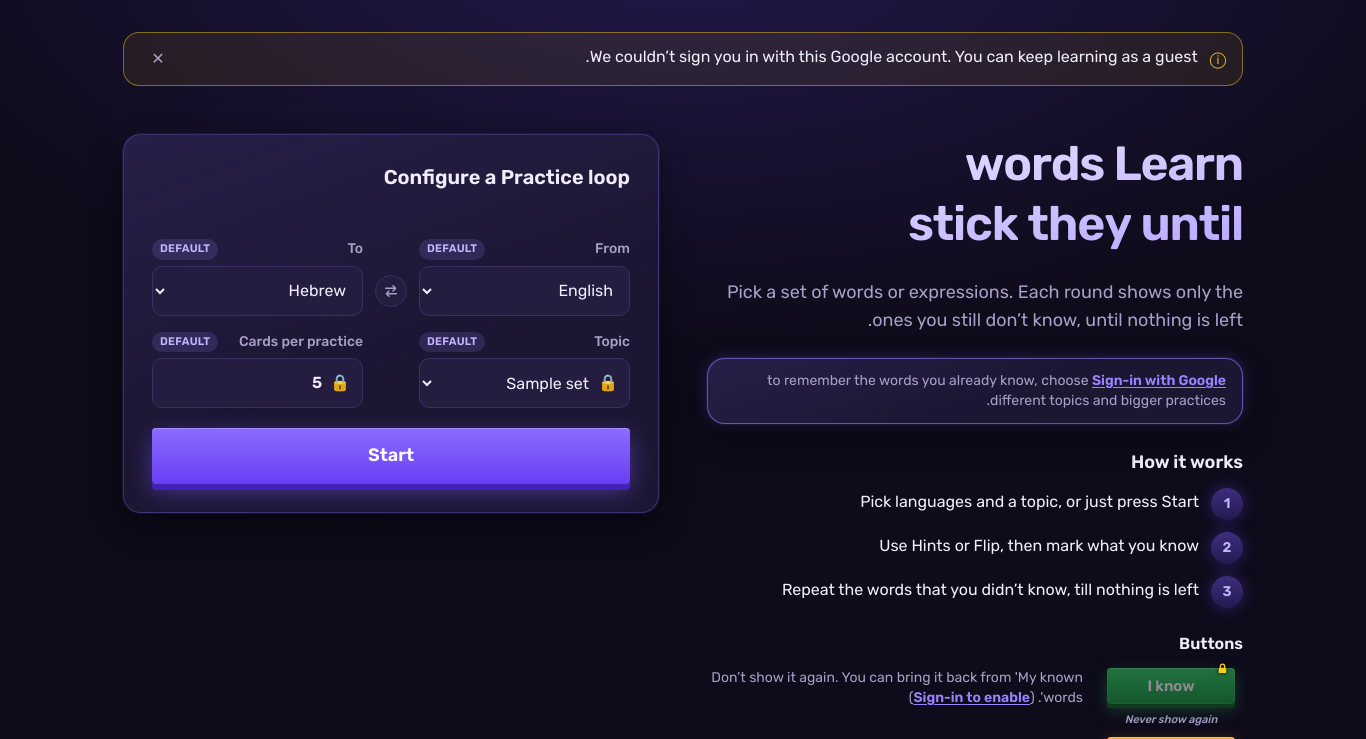
Test: Landing: back from a failed sign-in (FR-L56) › a refused account sees a lasting, neutral notice; the address is cleaned
This screenshot has width=1366, height=739.
Expected: the message shows "We couldn’t sign you in with this Google account. You can keep learning as a guest.", [586,47,1198,66]
Click the button named "Dismiss": {"x": 158, "y": 59} [140,41,176,77]
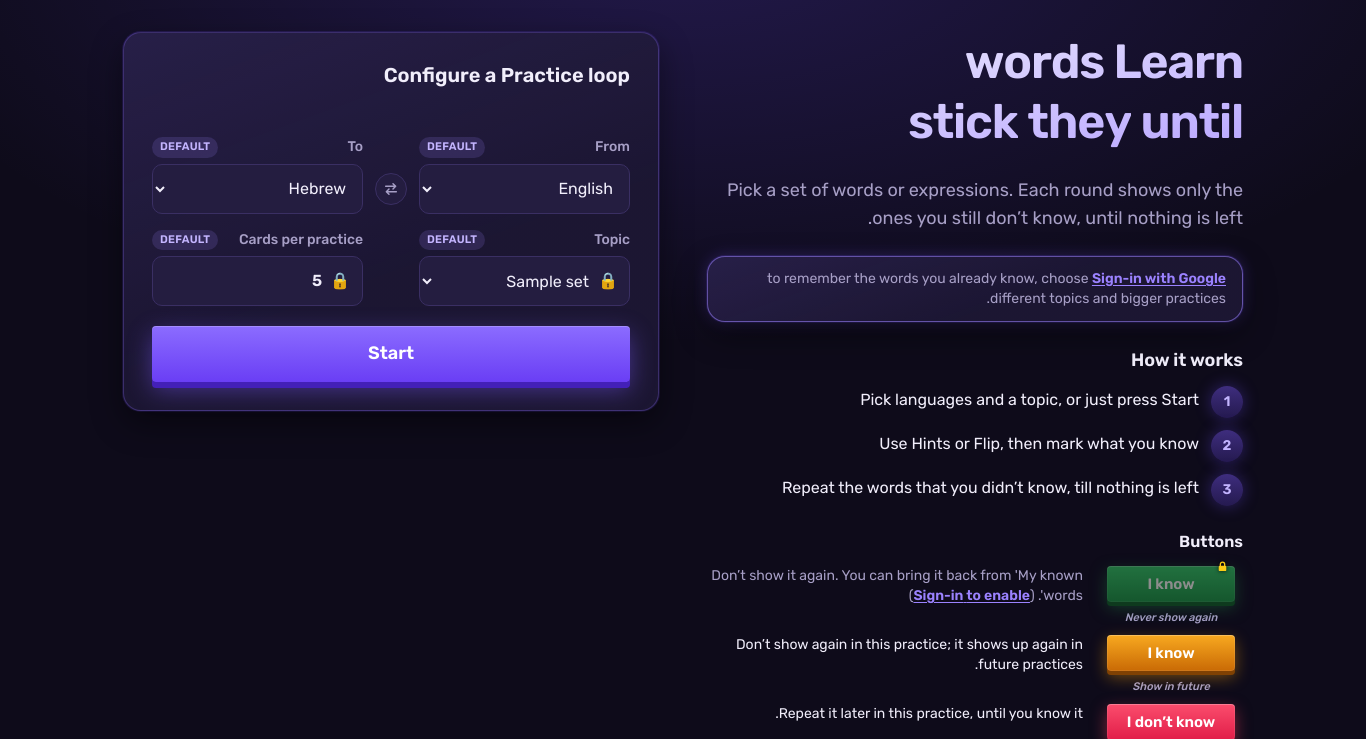
Expected: the message is gone
